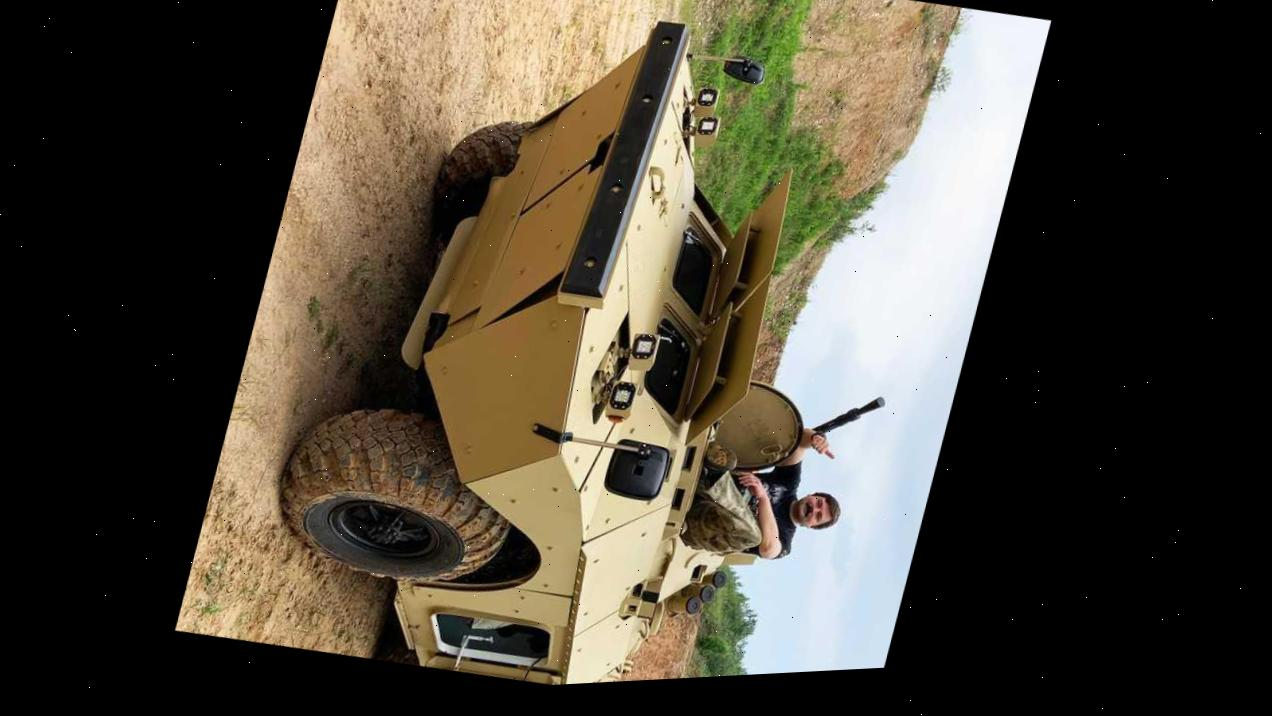tank: (231, 0, 986, 702)
